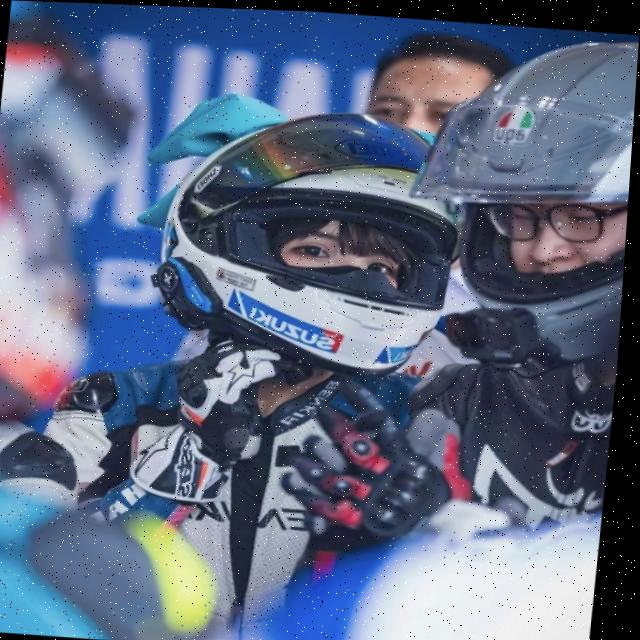helmet: (138, 94, 484, 387)
illegal_helmet: (390, 15, 640, 373)
